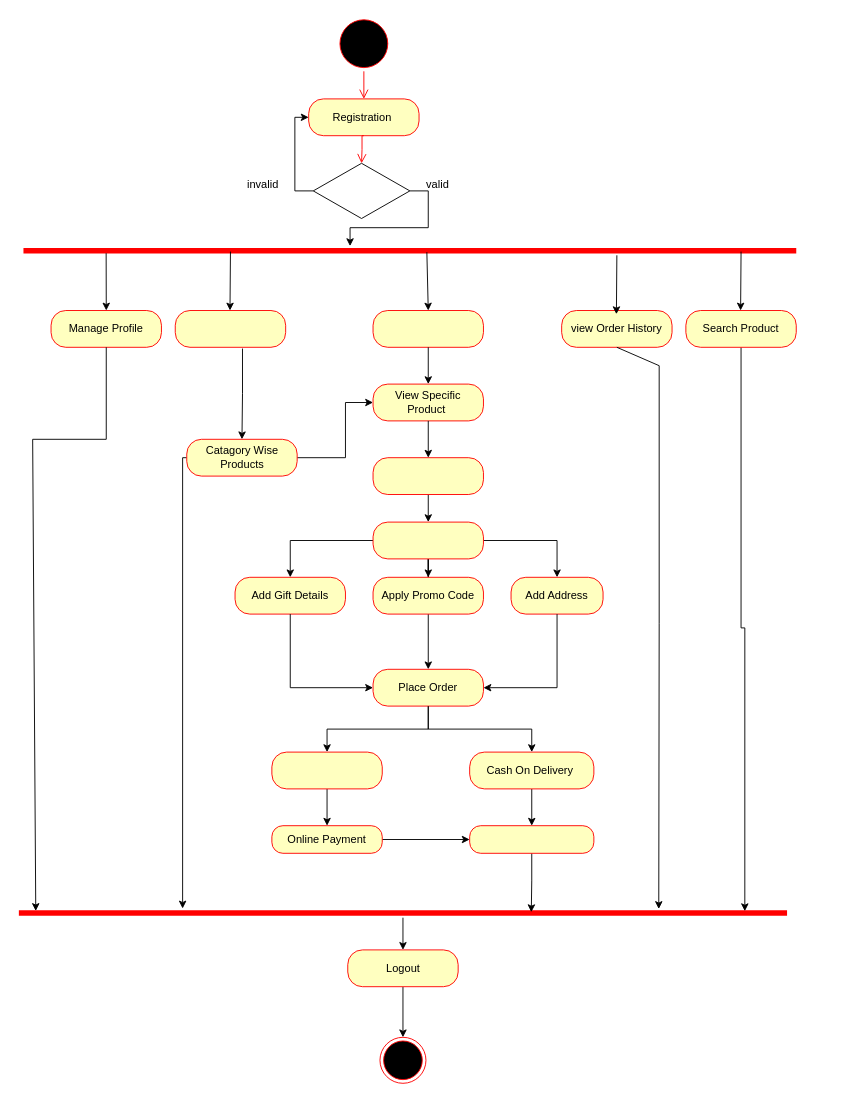
Some shapes in this 848 by 1099 pixel diagram are drawn without their labels. Each missing label, with the centre of its shape:
"Add to Cart" goes at [427,475].
"CheckOut" goes at [427,540].
"Login" goes at [361,190].
"Make Payment" goes at [326,770].
"Success" goes at [531,839].
"view catagory" goes at [230,328].
"view products" goes at [427,328].
